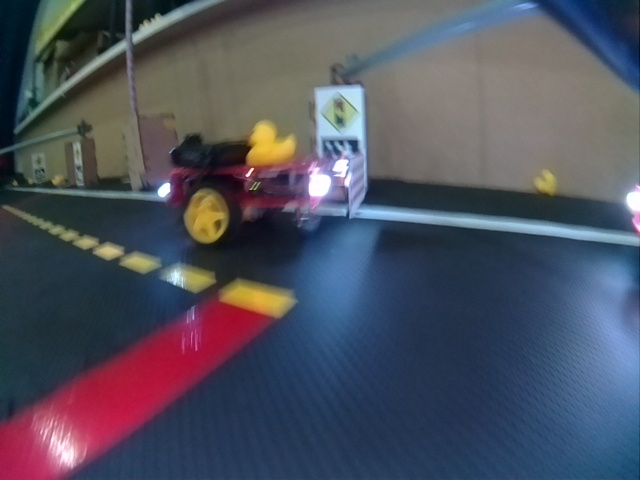Duckie: (252, 125, 295, 162), (534, 172, 557, 194)
Duckiebot: (164, 137, 364, 235)
Signal sign: (316, 87, 364, 132)
